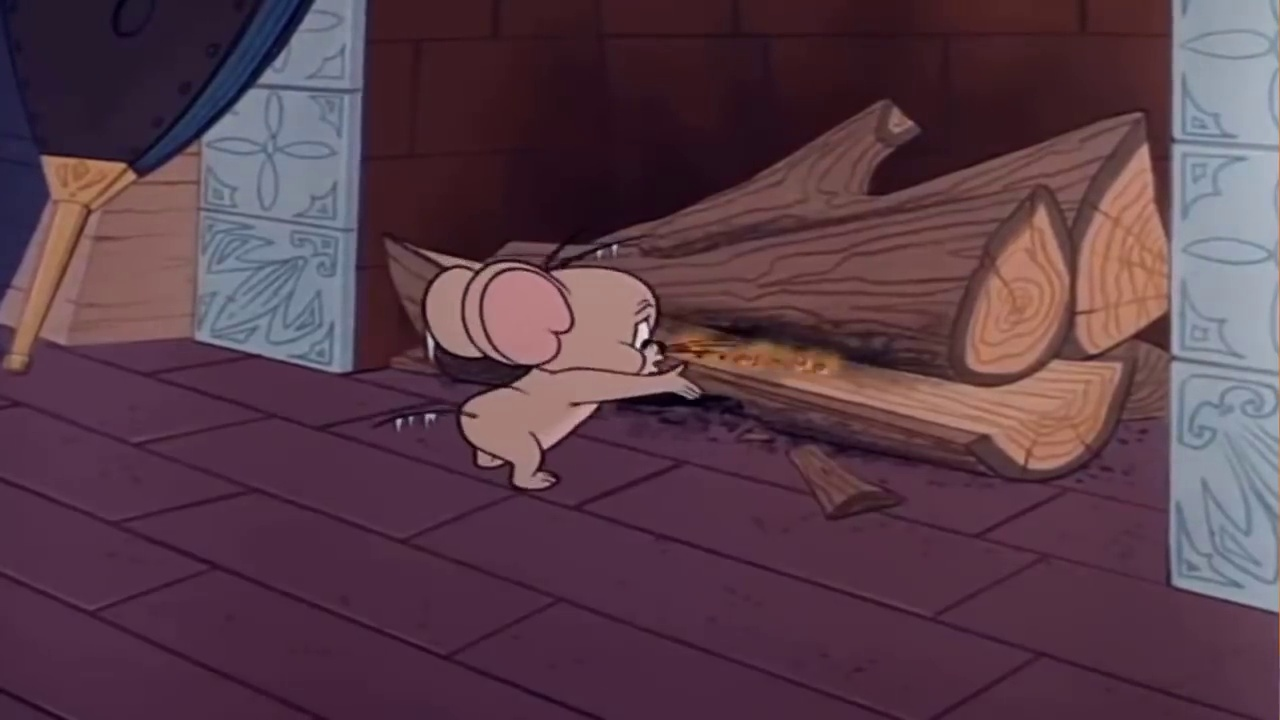face: (610, 289, 672, 377)
